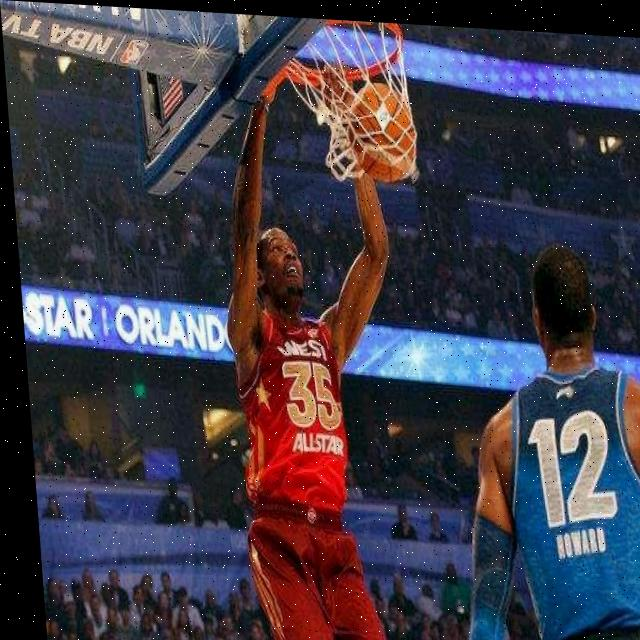basketball: (343, 77, 421, 183)
hoop: (278, 16, 425, 187), (280, 17, 423, 187)
